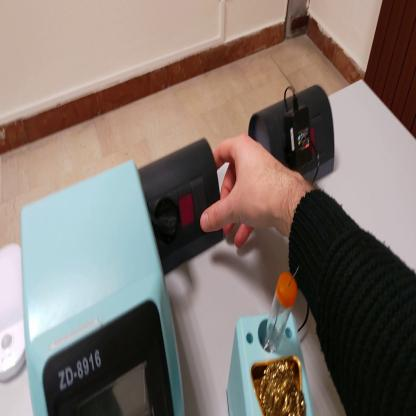hand: (203, 134, 291, 245)
socket: (139, 142, 224, 280), (251, 84, 336, 185)
welder base: (228, 268, 314, 415)
welder station: (17, 159, 186, 416)
